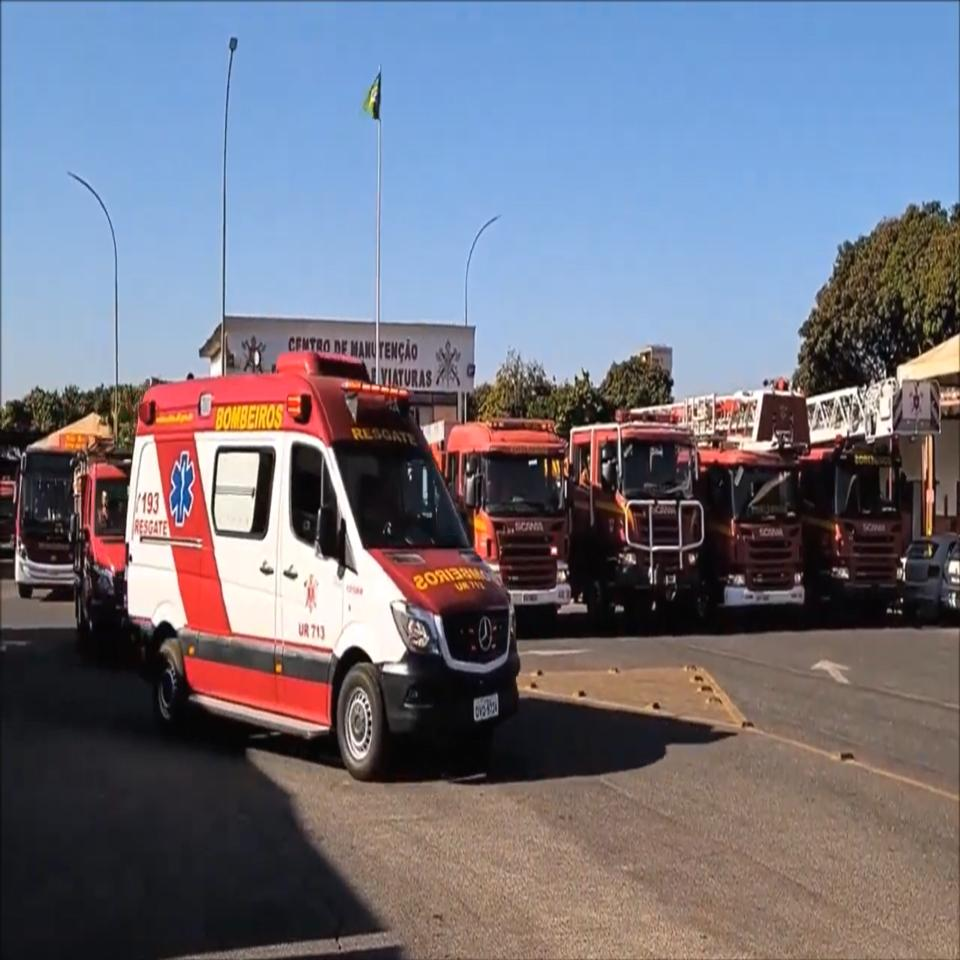bombeiro: (123, 350, 521, 778)
